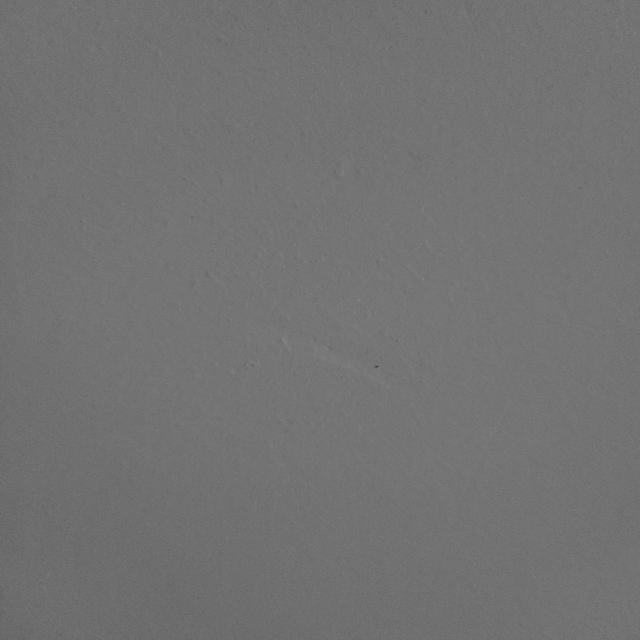rough and patchy surface: (12, 6, 635, 626)
